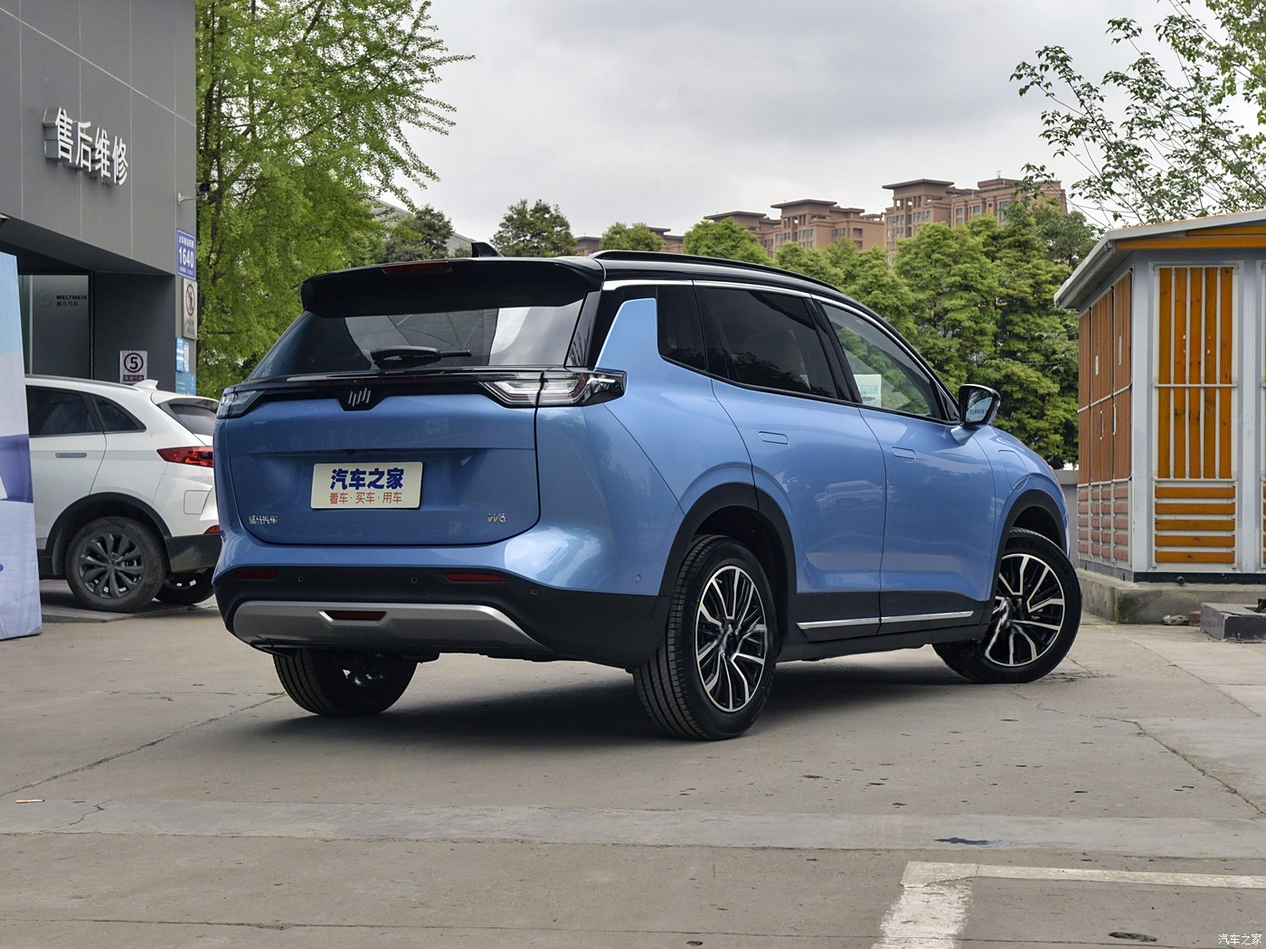WELTMEISTER: (349, 388, 370, 405)
